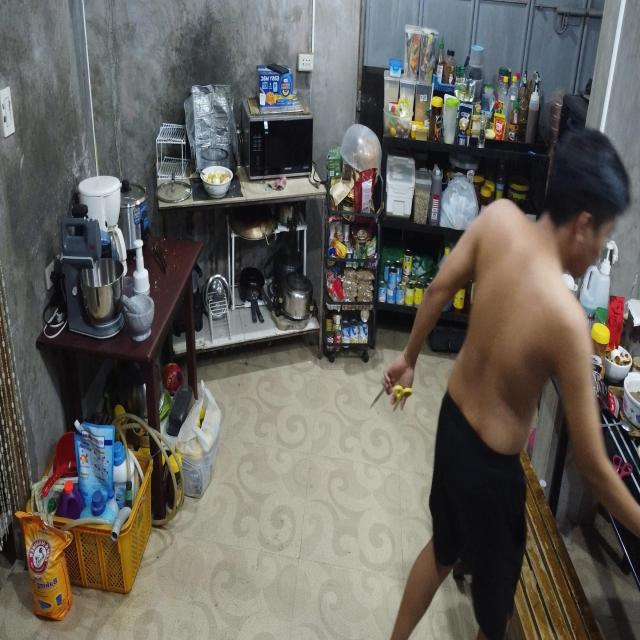scissor: (368, 372, 392, 410), (390, 384, 412, 421), (613, 454, 633, 482)
